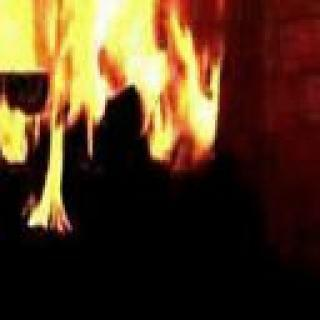fire: (0, 0, 209, 173)
